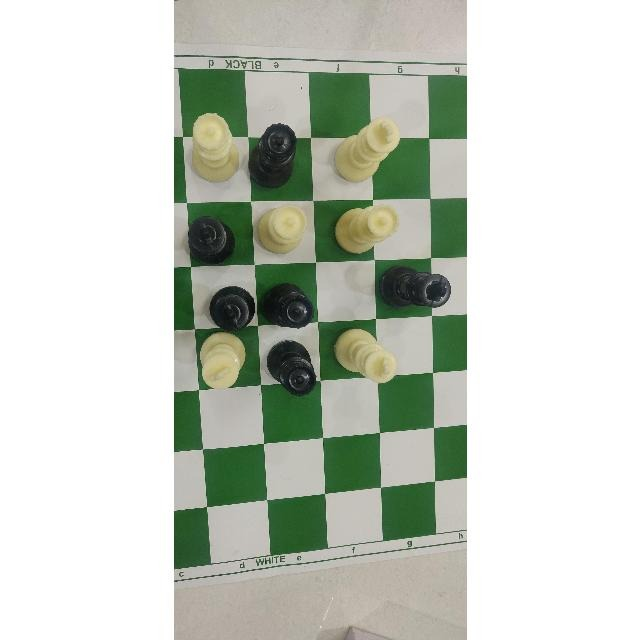black-king: (376, 263, 450, 310), (181, 213, 234, 263), (205, 288, 254, 332)
black-queen: (245, 117, 299, 191), (261, 336, 317, 402), (261, 282, 315, 330)
white-king: (330, 118, 397, 184), (332, 323, 396, 390), (191, 334, 247, 392)
white-queen: (184, 106, 240, 187), (249, 200, 307, 259), (335, 200, 397, 254)
